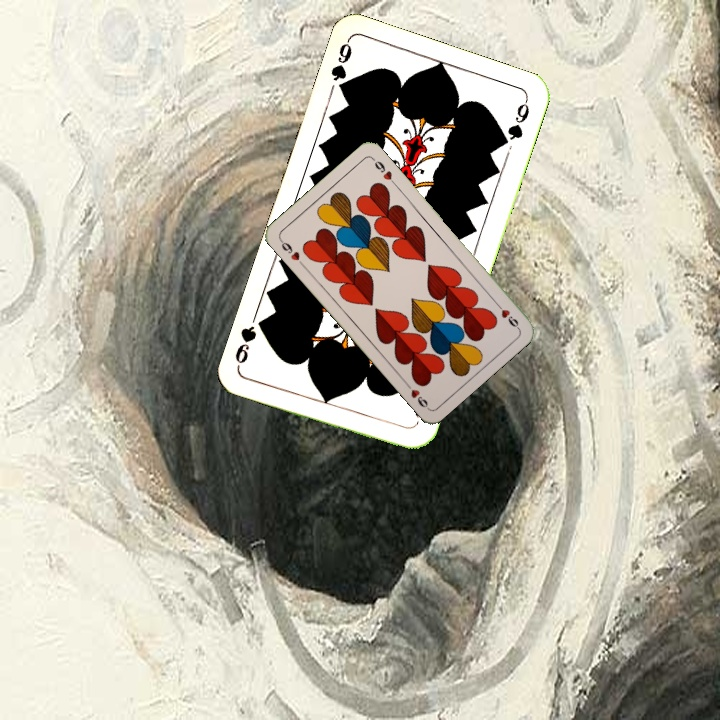G9: (326, 36, 355, 97)
H9: (276, 235, 307, 269), (491, 297, 522, 331)
